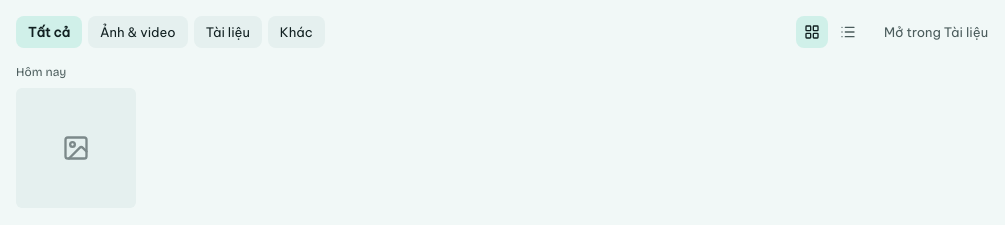
Test: SpaceFiles › says so for documents when there are only pictures
Expected: the button named "anh-1.jpg" is shown, x1=16 y1=88 x2=136 y2=208
Click the radio button labelled "Tài liệu".
click(228, 32)  # box x1=194 y1=16 x2=262 y2=48
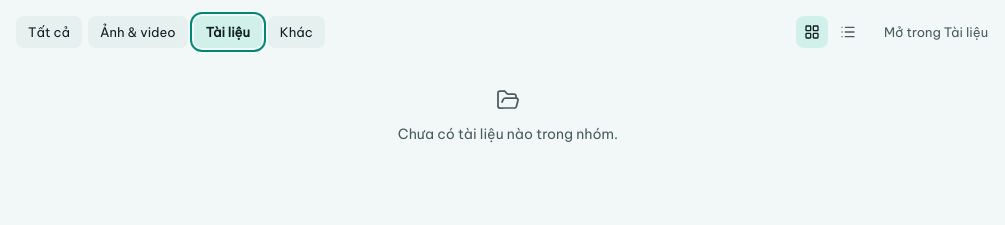
Result: the text "Chưa có tài liệu nào trong nhóm." is shown at x1=398 y1=124 x2=618 y2=145
